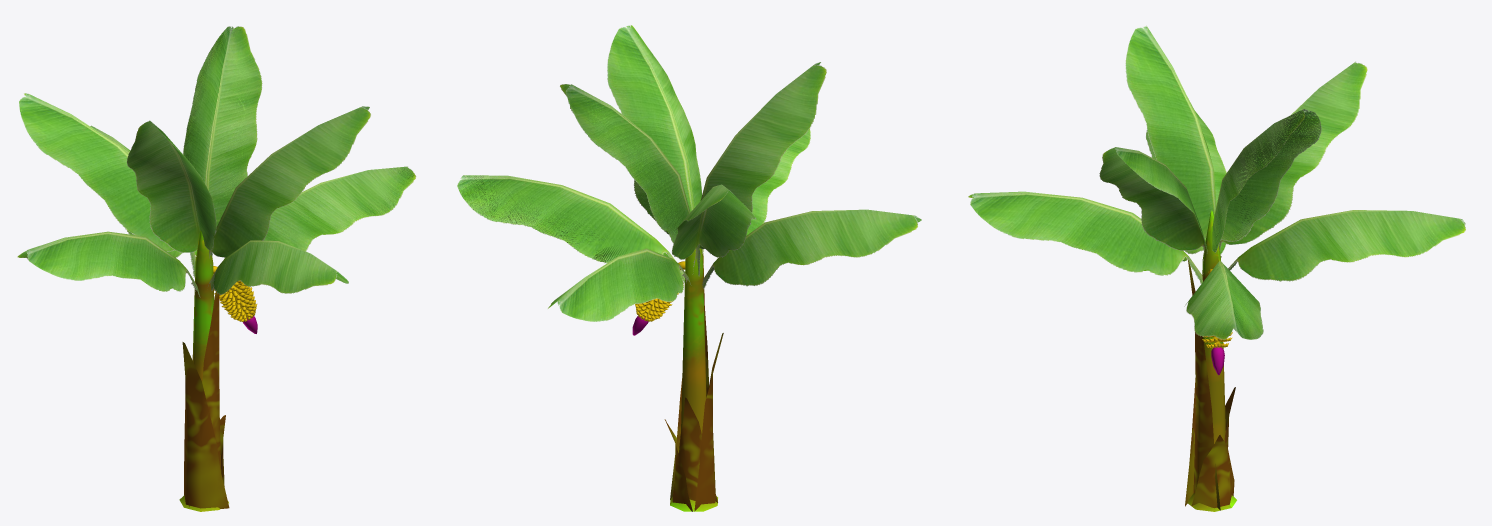
The model's file is pohon pisang.fbx.
The picture shows the model from 3 angles, left to right: view 1: azimuth 30°, elevation 25°; view 2: azimuth 150°, elevation 25°; view 3: azimuth 270°, elevation 25°; orthographic projection. The views are drawn at different scales.
Visible parts, largest first — view 1: G_Leaf.005, G_Trunk, G_Leaf, G_Leaf.006, G_Leaf.007, G_Leaf.001, G_Leaf.003, G_Leaf.004, G_Fruits; view 2: G_Leaf.001, G_Leaf.003, G_Trunk, G_Leaf, G_Leaf.007, G_Leaf.005, G_Leaf.002, G_Leaf.006, G_Leaf.004, G_Fruits; view 3: G_Leaf.002, G_Leaf.004, G_Leaf.007, G_Leaf.005, G_Trunk, G_Leaf, G_Leaf.006, G_Leaf.001, G_Leaf.003.
Boxes of the visible parts, x1,y1,x2,y2 form: G_Leaf.005: (183,26,262,226); G_Trunk: (179,230,229,511); G_Leaf: (209,106,370,265); G_Leaf.006: (19,93,195,277); G_Leaf.007: (127,120,216,252); G_Leaf.001: (224,166,416,258); G_Leaf.003: (17,231,200,297); G_Leaf.004: (208,240,348,294); G_Fruits: (213,266,257,333); G_Leaf.001: (457,175,684,283); G_Leaf.003: (702,209,921,289); G_Trunk: (664,248,723,511); G_Leaf: (607,25,701,212); G_Leaf.007: (699,62,826,249); G_Leaf.005: (560,84,690,243); G_Leaf.002: (548,248,691,321); G_Leaf.006: (672,184,756,276); G_Leaf.004: (702,128,810,264); G_Fruits: (632,261,685,335); G_Leaf.002: (1228,210,1465,281); G_Leaf.004: (968,191,1202,283); G_Leaf.007: (1125,25,1216,238); G_Leaf.005: (1212,109,1321,252); G_Trunk: (1185,210,1236,511); G_Leaf: (1099,147,1207,273); G_Leaf.006: (1219,61,1367,257); G_Leaf.001: (1184,260,1263,339); G_Leaf.003: (1146,110,1226,254).
Size of the model in its own units: 1369 by 1297 by 1386.
4 materials, 2 textured.
